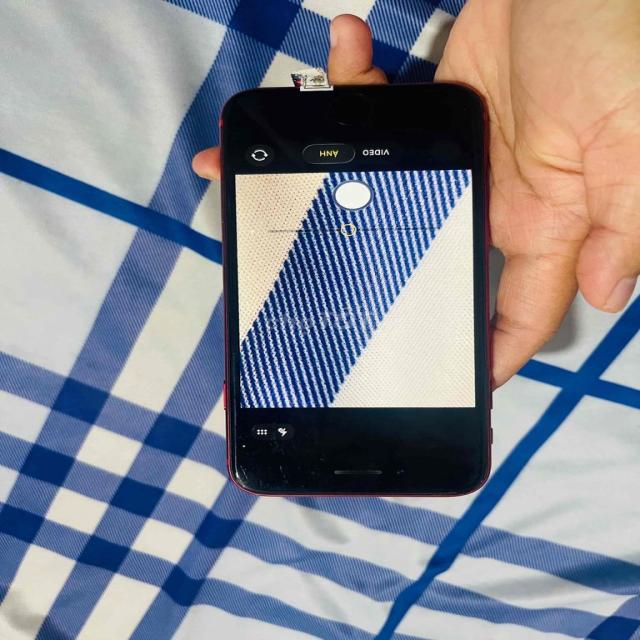scratch: (268, 456, 492, 493), (227, 436, 261, 490)
